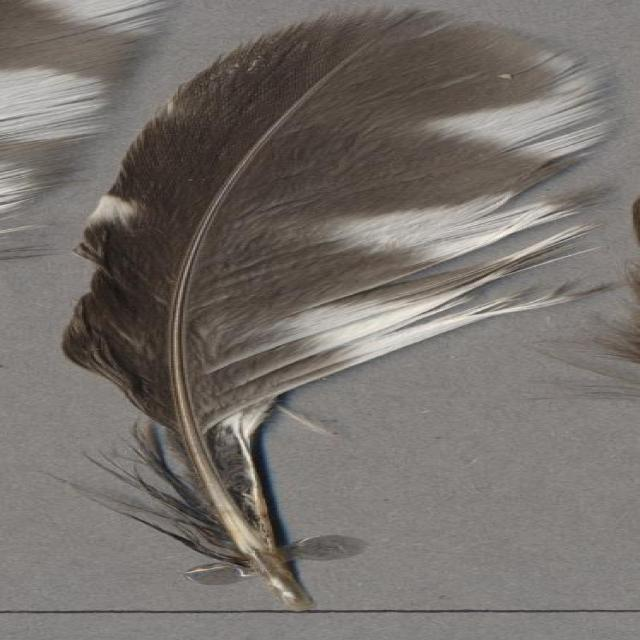feather: (34, 3, 629, 614)
